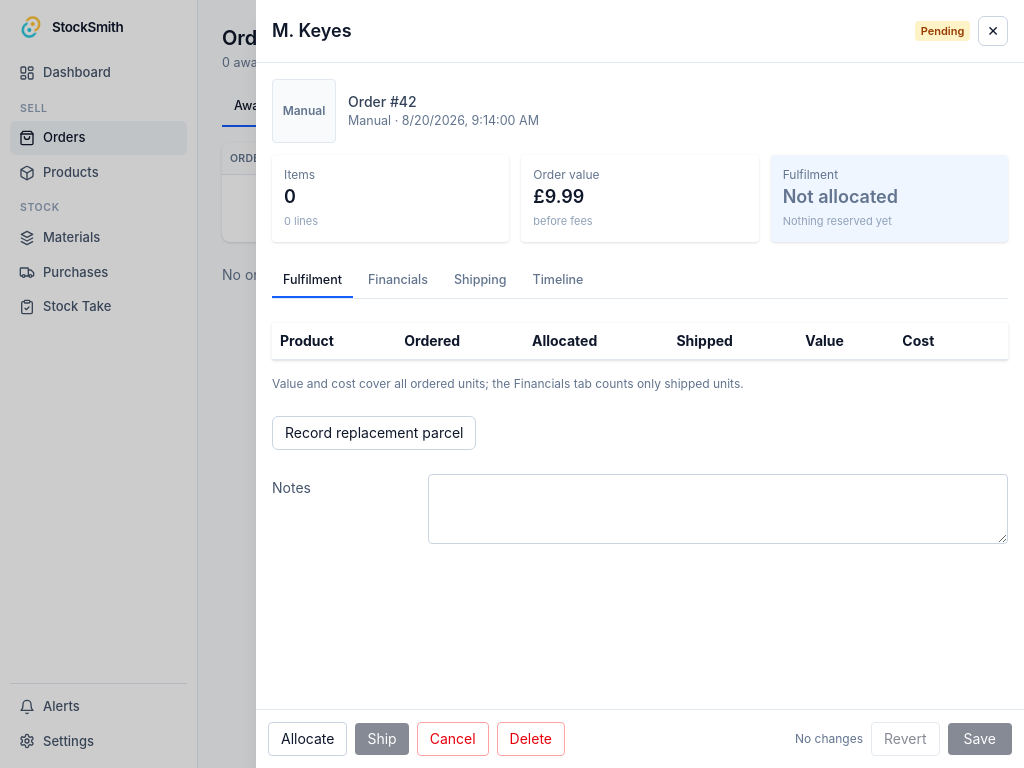
Test: the footer Revert drops a shipping edit with no PATCH
Expected: the heading "M. Keyes" is shown, [272,17,352,45]
Click the button "Shipping" at [480, 282], box [443,266,518,298]
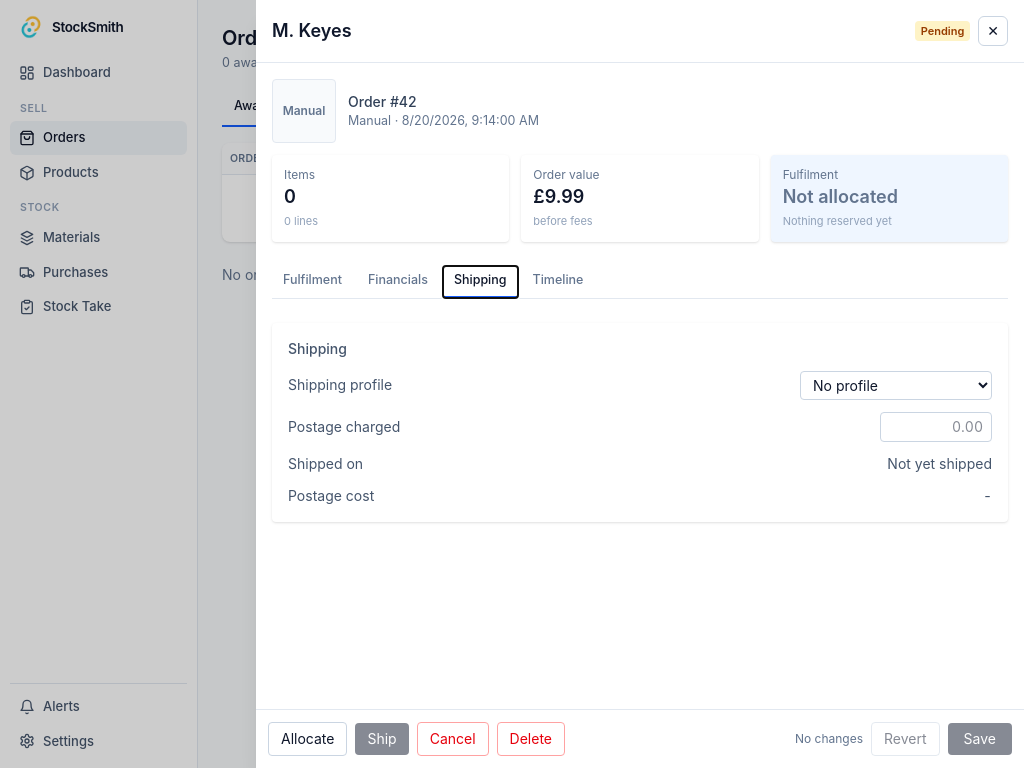
Select "Small Parcel 48" in the dropdown at [896, 385], box [800,370,992,400]
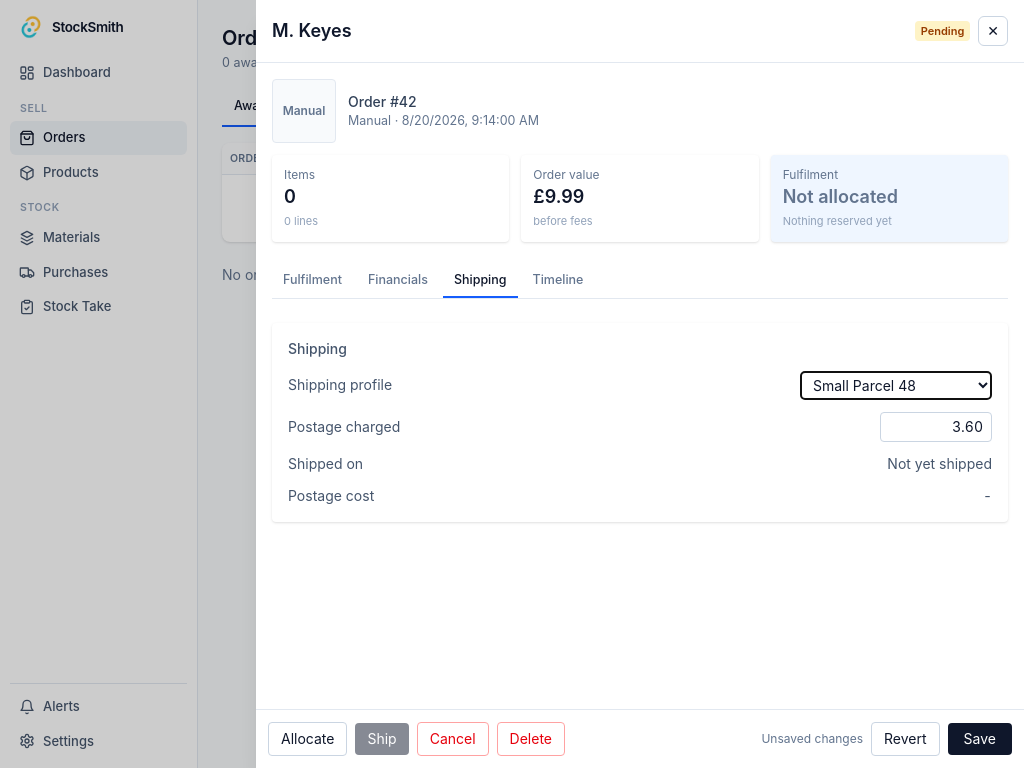
Click the button "Revert" at [905, 739], box [871,722,940,756]
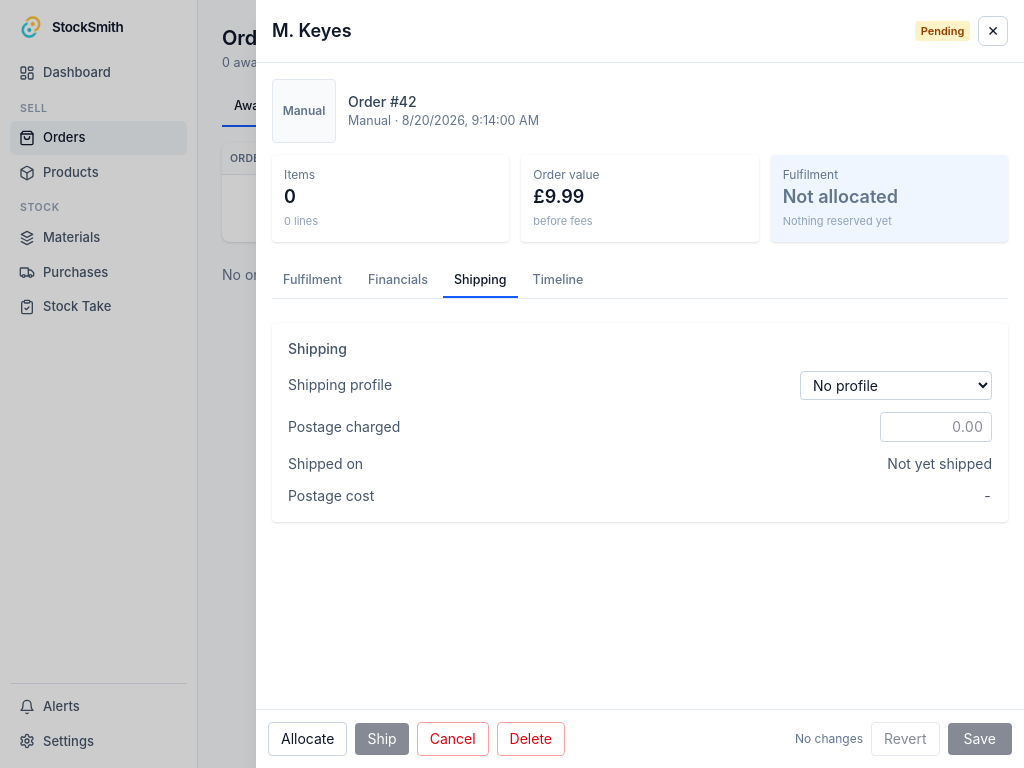
Expected: the text "No changes" is shown, [795,730,863,748]
